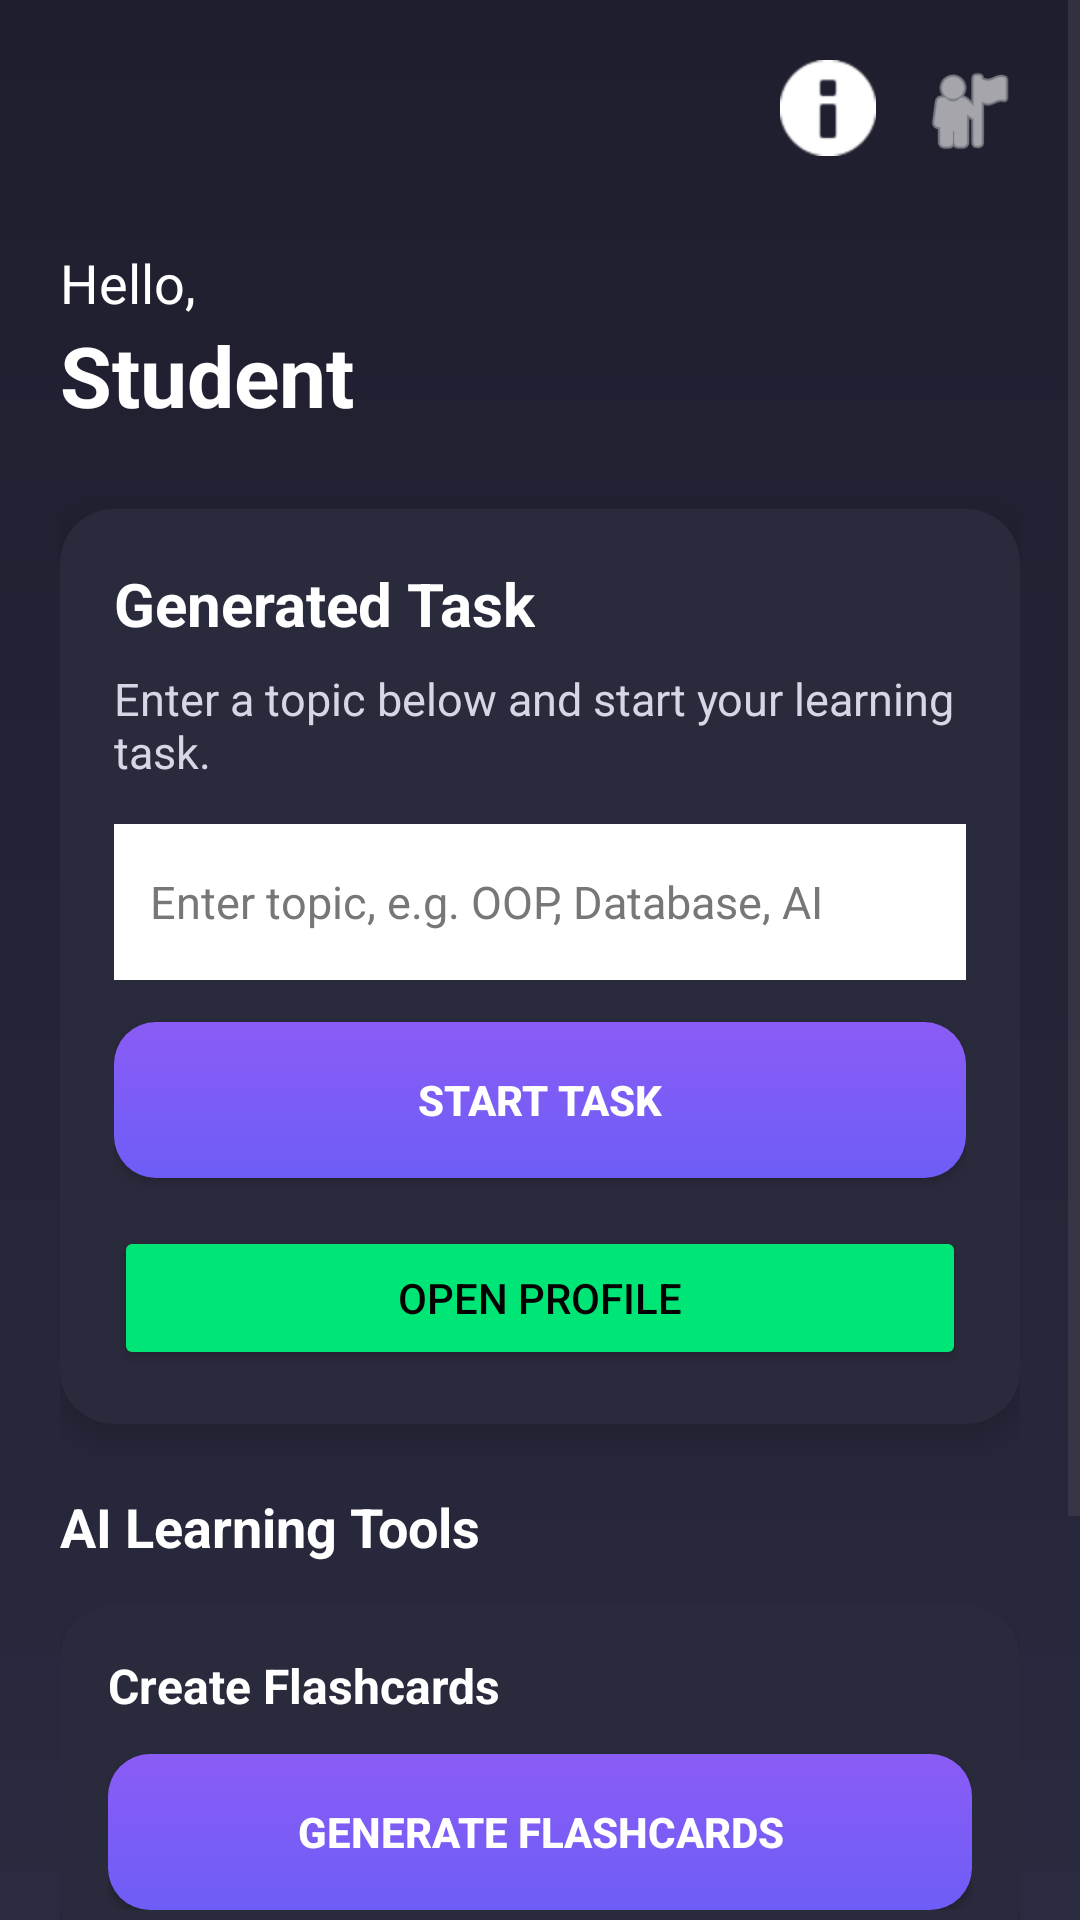

Where icons sit on this 1080 x 1920 app screen, as {"left": x1, "top": y1, "right": x2, "bottom": y2}:
Profile: {"left": 932, "top": 73, "right": 1008, "bottom": 149}
